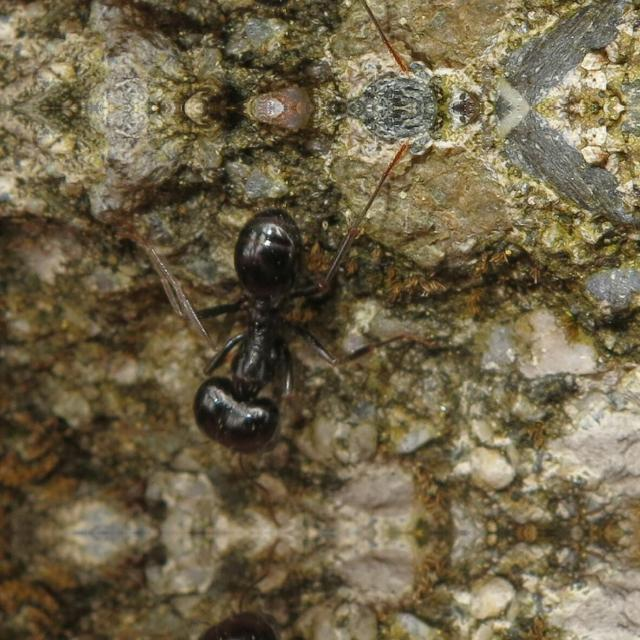Messor: (195, 175, 331, 453)
